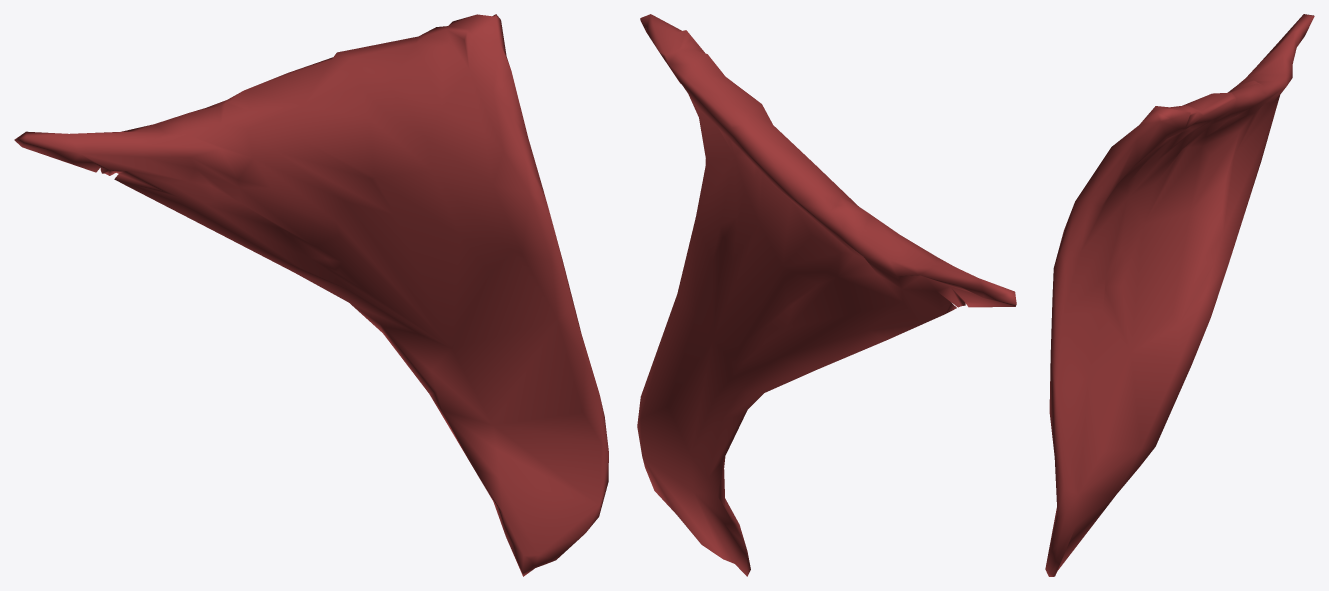
Rendered from levator-labii-superioris-r.glb.
3 views of the same model, side by side, from view 1: azimuth 30°, elevation 25°; view 2: azimuth 150°, elevation 25°; view 3: azimuth 270°, elevation 25° (orthographic). The views are drawn at different scales.
Parts seen in each view (by area): view 1: Levator labii superioris.r; view 2: Levator labii superioris.r; view 3: Levator labii superioris.r.
Boxes of the visible parts, <box> form: Levator labii superioris.r: <box>14,14,608,576</box>; Levator labii superioris.r: <box>637,14,1016,576</box>; Levator labii superioris.r: <box>1045,14,1314,576</box>.
Size of the model in its own units: 0.027 by 0.0289 by 0.0149.
